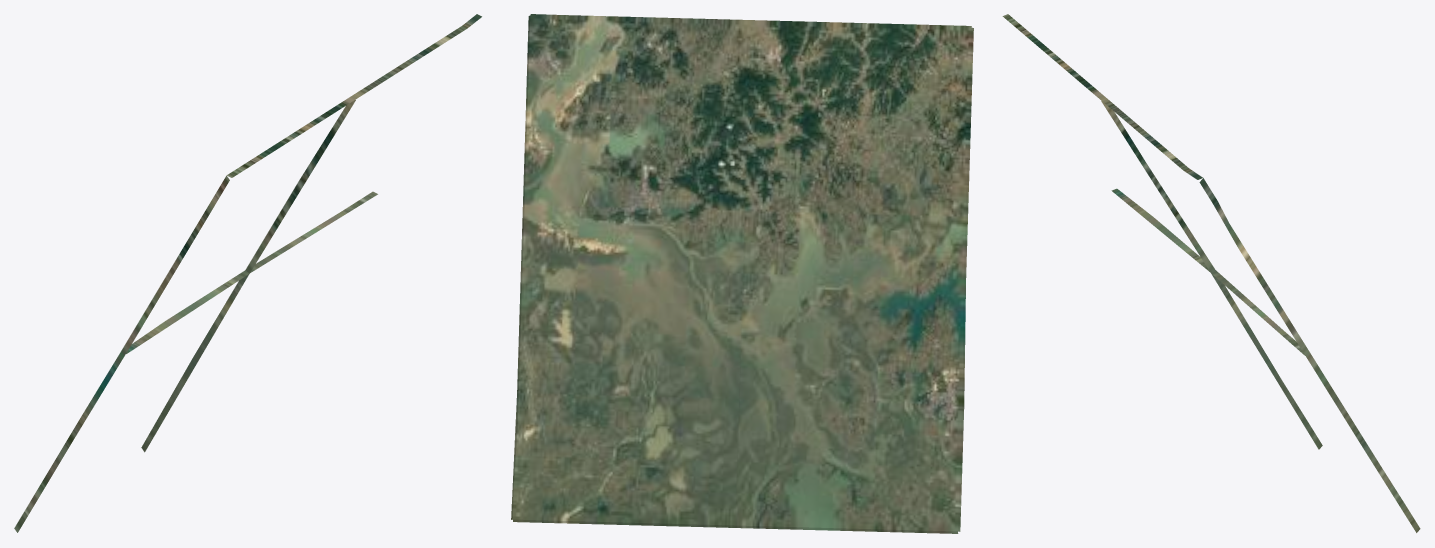
3 views of the same model, side by side, from view 1: azimuth 30°, elevation 25°; view 2: azimuth 150°, elevation 25°; view 3: azimuth 270°, elevation 25° (orthographic). The views are drawn at different scales.
Size of the model in its own units: 79092 by 69240 by 65620.
1 material, 1 textured.
